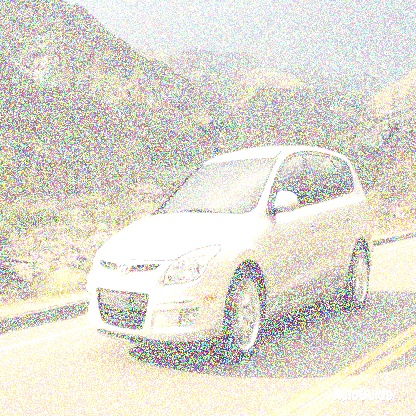Vehicle: (87, 141, 376, 364)
